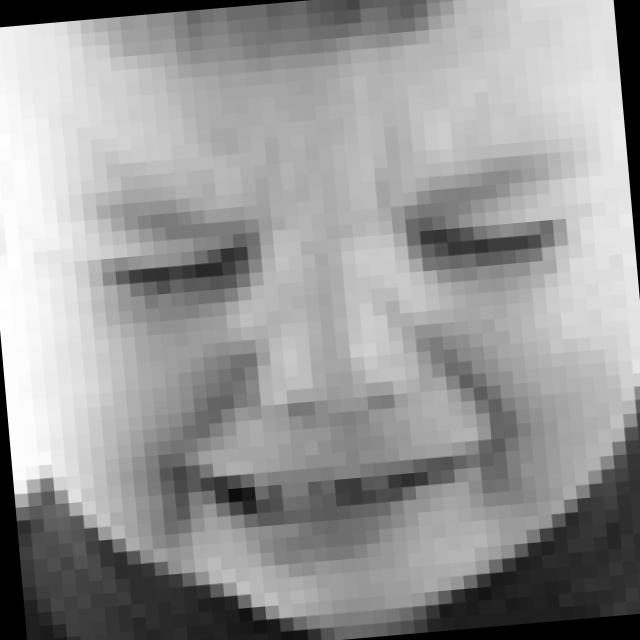sad: (53, 141, 624, 578)
